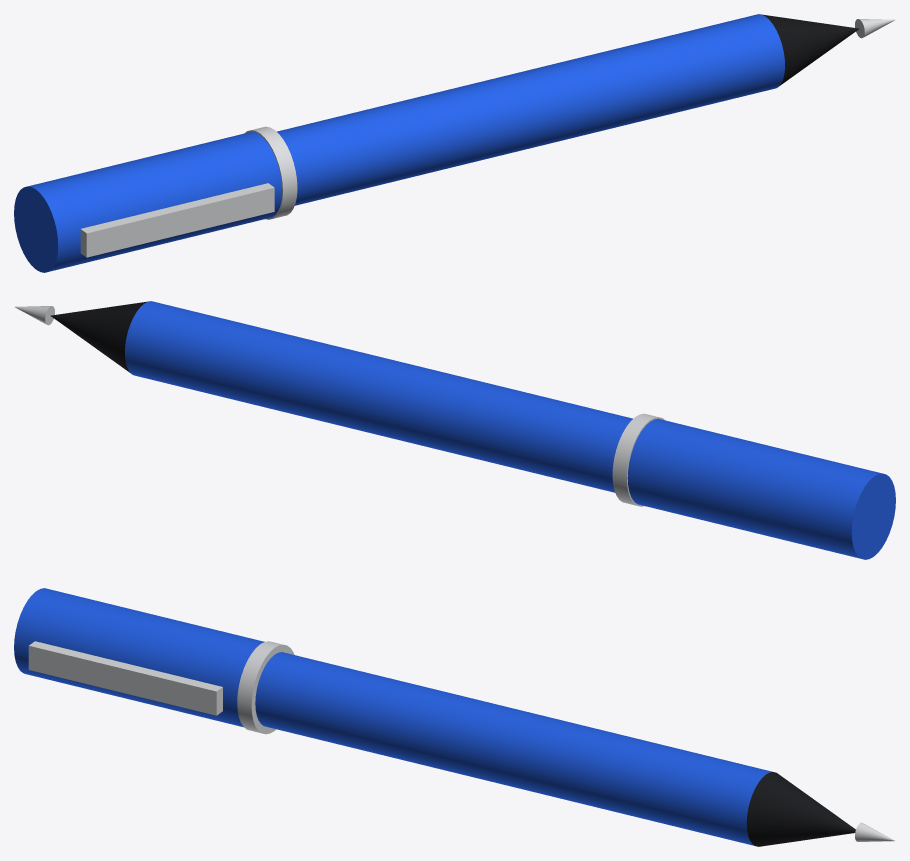
File: pen.obj
The picture shows the model from 3 angles, top to bottom: view 1: azimuth 30°, elevation 25°; view 2: azimuth 150°, elevation 25°; view 3: azimuth 330°, elevation 25°; orthographic projection.
Visible parts, largest first — view 1: pen_0_0, pen_1_196, pen_2_392, pen_4_612, pen_3_416; view 2: pen_0_0, pen_1_196, pen_4_612, pen_3_416; view 3: pen_0_0, pen_1_196, pen_2_392, pen_4_612, pen_3_416.
Part boxes in pixels (left/top/right/bottom): pen_0_0: left=277, top=14, right=784, bottom=205; pen_1_196: left=14, top=131, right=282, bottom=272; pen_2_392: left=80, top=183, right=274, bottom=257; pen_4_612: left=761, top=14, right=859, bottom=85; pen_3_416: left=244, top=126, right=297, bottom=219; pen_0_0: left=125, top=301, right=632, bottom=492; pen_1_196: left=627, top=418, right=895, bottom=559; pen_4_612: left=50, top=301, right=148, bottom=372; pen_3_416: left=612, top=413, right=665, bottom=506; pen_0_0: left=255, top=652, right=772, bottom=845; pen_1_196: left=14, top=588, right=264, bottom=727; pen_2_392: left=28, top=641, right=222, bottom=715; pen_4_612: left=746, top=772, right=855, bottom=846; pen_3_416: left=237, top=641, right=294, bottom=734.
Bounding box in the file's own units: 0.119 × 0.011 × 0.0124.
